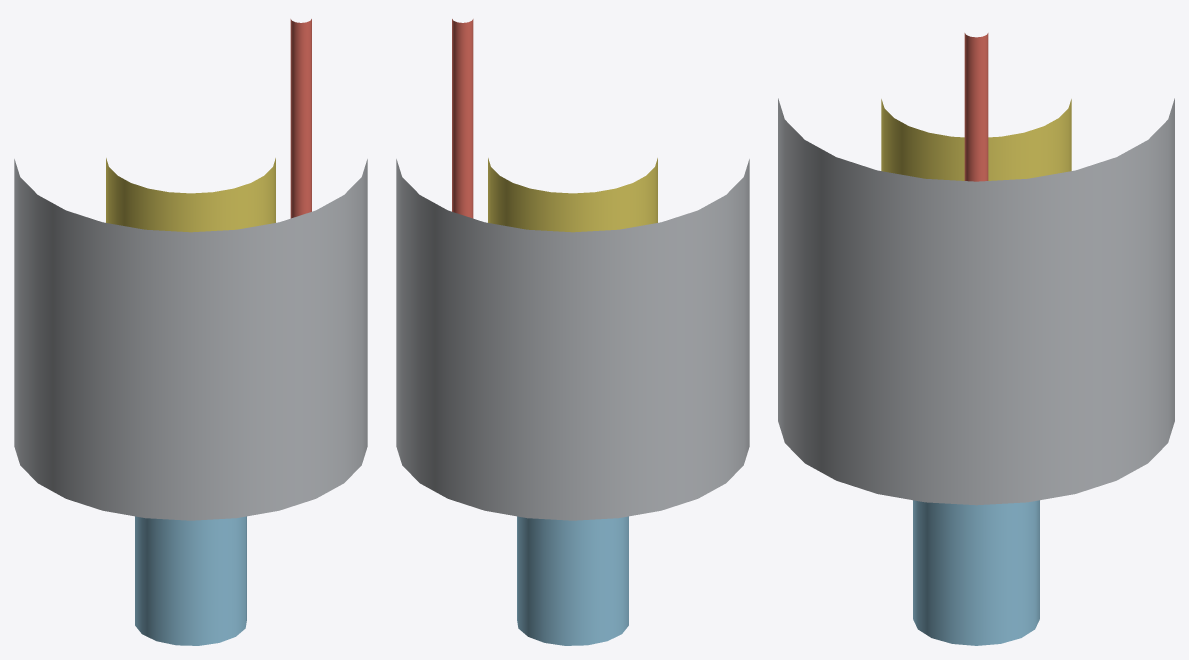
File: redwood_viscometer_oil_viscosity.glb
The picture shows the model from 3 angles, left to right: view 1: azimuth 30°, elevation 25°; view 2: azimuth 150°, elevation 25°; view 3: azimuth 270°, elevation 25°; orthographic projection. The views are drawn at different scales.
Parts seen in each view (by area): view 1: ThermostaticWaterBathJacket, Standard50mlKohlrauschReceivingFlask, BrassOilCupWithAgateJetNozzle, SpiralWaterBathStirrerThermometer; view 2: ThermostaticWaterBathJacket, Standard50mlKohlrauschReceivingFlask, BrassOilCupWithAgateJetNozzle, SpiralWaterBathStirrerThermometer; view 3: ThermostaticWaterBathJacket, Standard50mlKohlrauschReceivingFlask, BrassOilCupWithAgateJetNozzle, SpiralWaterBathStirrerThermometer.
Part boxes in pixels (bbox=[...]): ThermostaticWaterBathJacket: bbox=[14, 159, 367, 520]; Standard50mlKohlrauschReceivingFlask: bbox=[135, 516, 246, 645]; BrassOilCupWithAgateJetNozzle: bbox=[106, 158, 275, 232]; SpiralWaterBathStirrerThermometer: bbox=[290, 19, 311, 218]; ThermostaticWaterBathJacket: bbox=[396, 159, 749, 520]; Standard50mlKohlrauschReceivingFlask: bbox=[517, 516, 628, 645]; BrassOilCupWithAgateJetNozzle: bbox=[488, 158, 657, 232]; SpiralWaterBathStirrerThermometer: bbox=[452, 19, 473, 218]; ThermostaticWaterBathJacket: bbox=[778, 98, 1174, 505]; Standard50mlKohlrauschReceivingFlask: bbox=[913, 500, 1039, 645]; BrassOilCupWithAgateJetNozzle: bbox=[881, 99, 1071, 180]; SpiralWaterBathStirrerThermometer: bbox=[964, 33, 988, 181].
Size of the model in its own units: 0.5 by 0.9 by 0.5.
